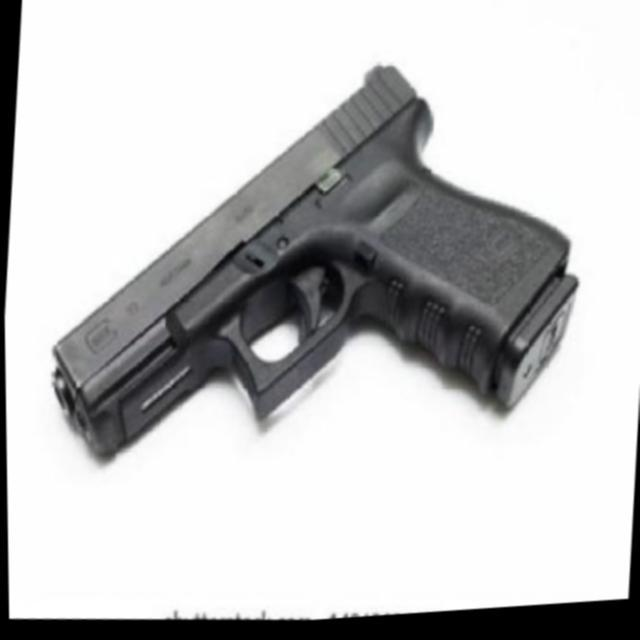weapon: (37, 31, 596, 496)
